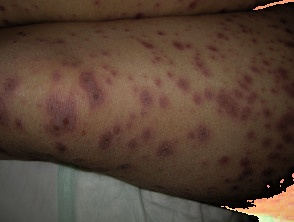SJS-TEN: (0, 6, 293, 204)
